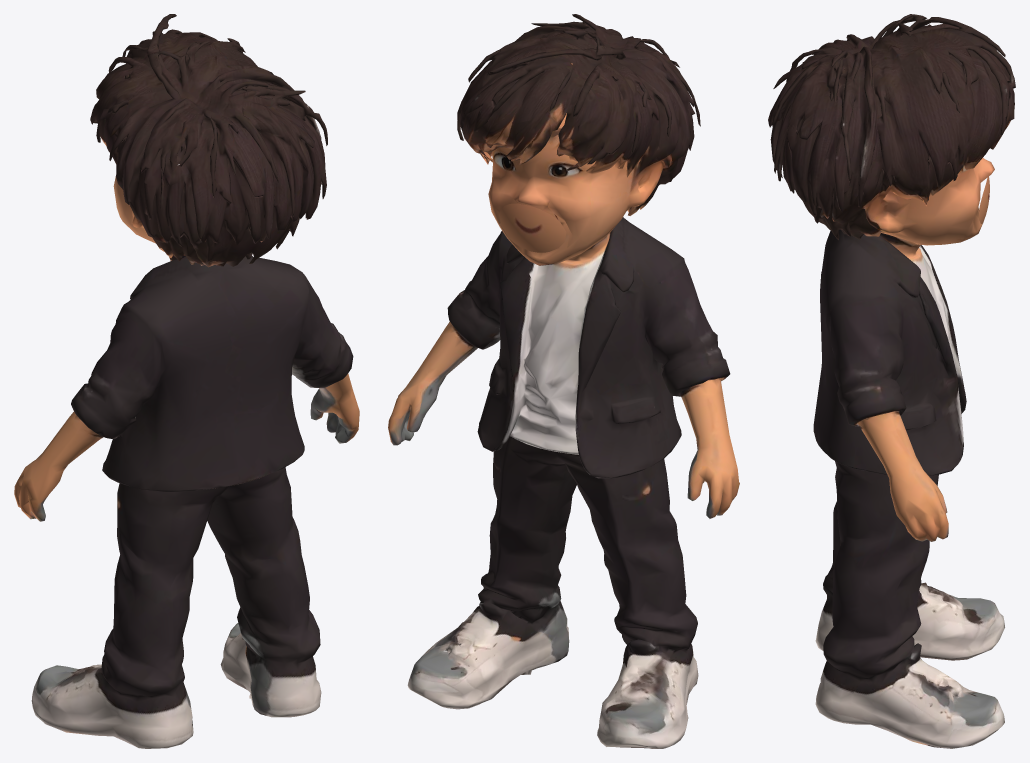
The model's file is matsui.glb.
3 views of the same model, side by side, from view 1: azimuth 30°, elevation 25°; view 2: azimuth 150°, elevation 25°; view 3: azimuth 270°, elevation 25° (orthographic).
Visible parts, largest first — view 1: tripo_node_22d92a0b-8cac-4b2c-ba74-a7b87a97624d; view 2: tripo_node_22d92a0b-8cac-4b2c-ba74-a7b87a97624d; view 3: tripo_node_22d92a0b-8cac-4b2c-ba74-a7b87a97624d.
Part boxes in pixels (left/top/right/bottom): tripo_node_22d92a0b-8cac-4b2c-ba74-a7b87a97624d: left=14, top=14, right=359, bottom=748; tripo_node_22d92a0b-8cac-4b2c-ba74-a7b87a97624d: left=388, top=14, right=739, bottom=748; tripo_node_22d92a0b-8cac-4b2c-ba74-a7b87a97624d: left=768, top=14, right=1015, bottom=748.
Bounding box in the file's own units: 0.8881 × 1.7 × 0.5747.
Materials: 1 (1 with a texture image).
